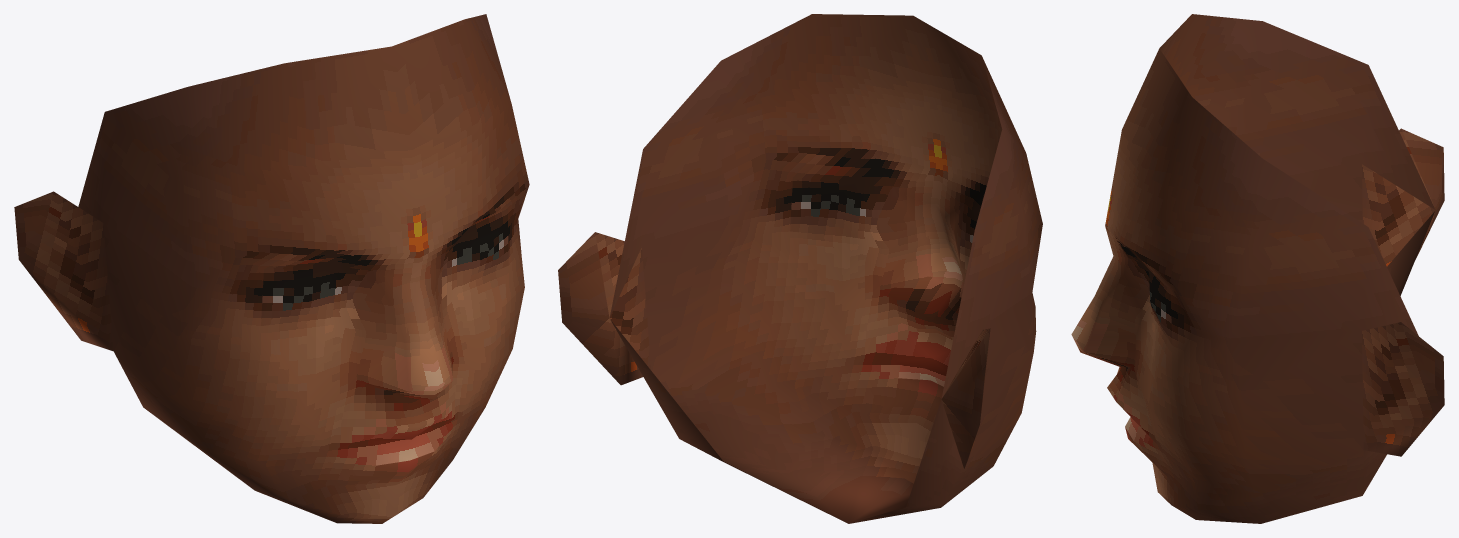
3 renders of one model, left to right at view 1: azimuth 30°, elevation 25°; view 2: azimuth 150°, elevation 25°; view 3: azimuth 270°, elevation 25°, orthographic. The views are drawn at different scales.
Bounding box in the file's own units: 19.4 × 20.15 × 14.64.
1 material, 1 textured.
